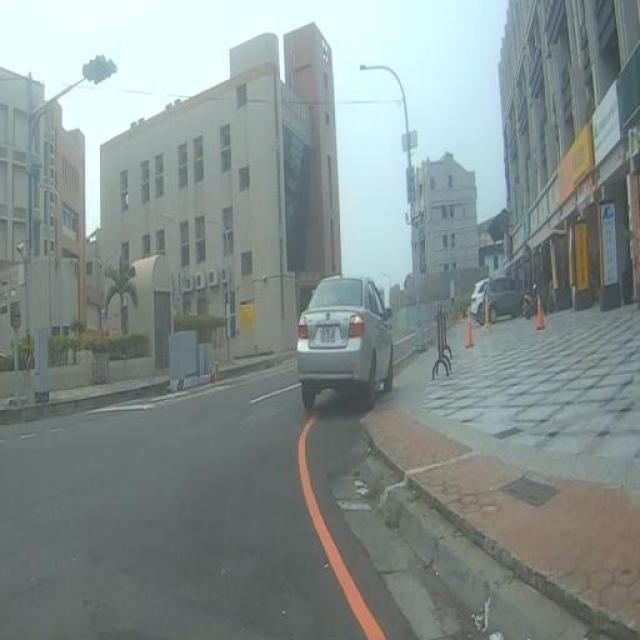illegalparking: (276, 254, 412, 486)
